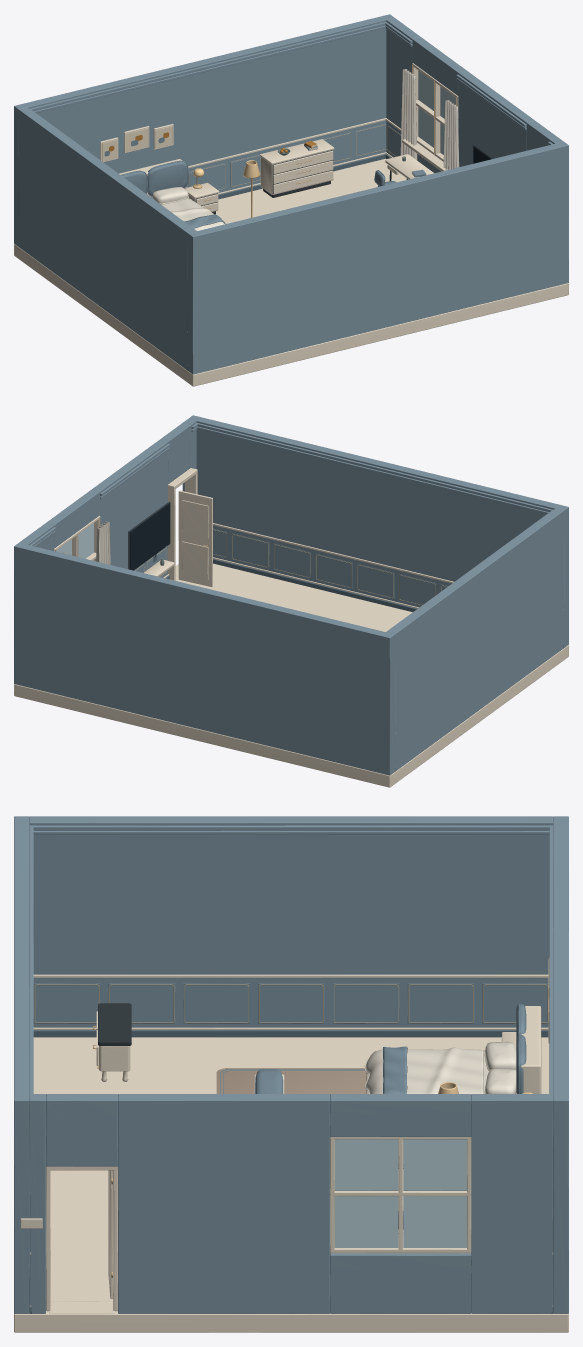
The model's file is HotelH06_FinalPolish.fbx.
The picture shows the model from 3 angles, top to bottom: view 1: azimuth 30°, elevation 25°; view 2: azimuth 150°, elevation 25°; view 3: azimuth 270°, elevation 25°; orthographic projection. The views are drawn at different scales.
Parts seen in each view (by area): view 1: Continuous finished wall.001, Continuous finished wall, Continuous finished wall.002, Uniform foundation, Load-bearing doorway return.001, Load-bearing doorway return, Load-bearing doorway return.005, Continuous stepped wall trim.004, Pleated ceiling-hung linen, Continuous stepped wall trim.003, Tailored headboard padding.001, Pleated ceiling-hung linen.001 (+16 smaller); view 2: Continuous finished wall, Continuous finished wall.001, Continuous finished wall.002, Uniform foundation, Load-bearing doorway return.001, Inset black optical screen, Load-bearing doorway return.005, Continuous stepped wall trim.024, Solid paneled walnut leaf, Load-bearing doorway return.003, Continuous stepped wall trim.023, Continuous stepped wall trim.020 (+10 smaller); view 3: Continuous finished wall.002, Load-bearing doorway return.001, Uniform foundation, Load-bearing doorway return, Load-bearing doorway return.004, Continuous finished wall, Continuous finished wall.001, Load-bearing doorway return.005, Load-bearing doorway return.003, Lofted duvet with draped foot and side hems, Load-bearing doorway return.002, Continuous stepped wall trim.025 (+34 smaller).
Boxes of the visible parts, x1=… form: Continuous finished wall.001: x1=188, y1=141, x2=568, y2=374; Continuous finished wall: x1=14, y1=14, x2=394, y2=246; Continuous finished wall.002: x1=19, y1=107, x2=195, y2=369; Uniform foundation: x1=14, y1=159, x2=568, y2=386; Load-bearing doorway return.001: x1=458, y1=70, x2=534, y2=166; Load-bearing doorway return: x1=386, y1=18, x2=420, y2=157; Load-bearing doorway return.005: x1=413, y1=37, x2=466, y2=95; Continuous stepped wall trim.004: x1=29, y1=22, x2=385, y2=111; Pleated ceiling-hung linen: x1=400, y1=69, x2=417, y2=160; Continuous stepped wall trim.003: x1=34, y1=25, x2=385, y2=113; Tailored headboard padding.001: x1=148, y1=160, x2=187, y2=195; Pleated ceiling-hung linen.001: x1=443, y1=100, x2=459, y2=169; Continuous finished wall: x1=14, y1=542, x2=394, y2=775; Continuous finished wall.001: x1=188, y1=415, x2=568, y2=647; Continuous finished wall.002: x1=387, y1=508, x2=563, y2=771; Uniform foundation: x1=14, y1=563, x2=568, y2=787; Load-bearing doorway return.001: x1=91, y1=440, x2=167, y2=577; Inset black optical screen: x1=130, y1=503, x2=170, y2=570; Load-bearing doorway return.005: x1=46, y1=490, x2=99, y2=548; Continuous stepped wall trim.024: x1=197, y1=423, x2=553, y2=512; Solid paneled walnut leaf: x1=178, y1=490, x2=212, y2=586; Load-bearing doorway return.003: x1=160, y1=423, x2=191, y2=484; Continuous stepped wall trim.023: x1=197, y1=426, x2=548, y2=514; Continuous stepped wall trim.020: x1=213, y1=559, x2=563, y2=648; Continuous finished wall.002: x1=29, y1=816, x2=553, y2=1027; Load-bearing doorway return.001: x1=118, y1=1094, x2=329, y2=1313; Uniform foundation: x1=14, y1=1037, x2=568, y2=1332; Load-bearing doorway return: x1=471, y1=1094, x2=553, y2=1313; Load-bearing doorway return.004: x1=330, y1=1253, x2=471, y2=1313; Continuous finished wall: x1=553, y1=816, x2=568, y2=1313; Continuous finished wall.001: x1=14, y1=816, x2=29, y2=1313; Load-bearing doorway return.005: x1=330, y1=1094, x2=471, y2=1136; Load-bearing doorway return.003: x1=46, y1=1094, x2=117, y2=1166; Lofted duvet with draped foot and side hems: x1=365, y1=1047, x2=484, y2=1094; Load-bearing doorway return.002: x1=29, y1=1094, x2=45, y2=1313; Continuous stepped wall trim.025: x1=33, y1=1030, x2=548, y2=1037.
Bounding box in the file's own units: 10.31 × 3.92 × 8.48.
